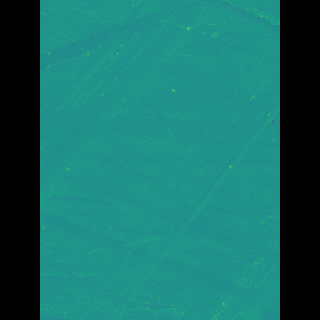Loch: (93, 36, 250, 319), (70, 0, 198, 208)
